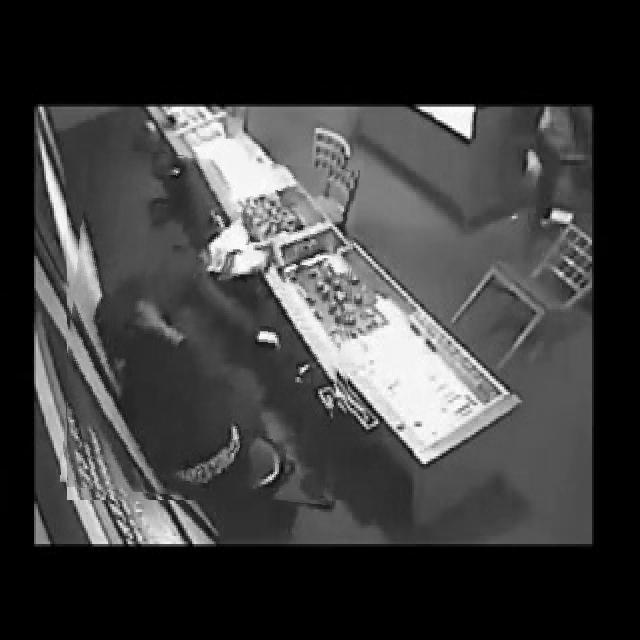Shoplifting: (67, 153, 353, 500)
